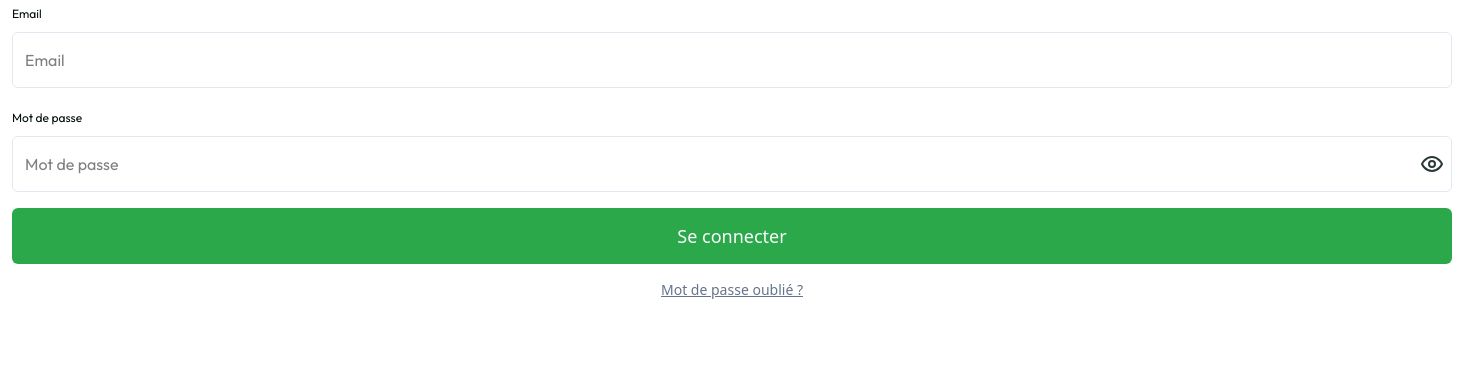
Scenario: LoginForm › shows validation messages when fields are empty
// Click the submit button
What coordinates should you click on to do the following:
click the button "Se connecter"
I would click on:
 (732, 236)
Its box is [12,208,1452,264].
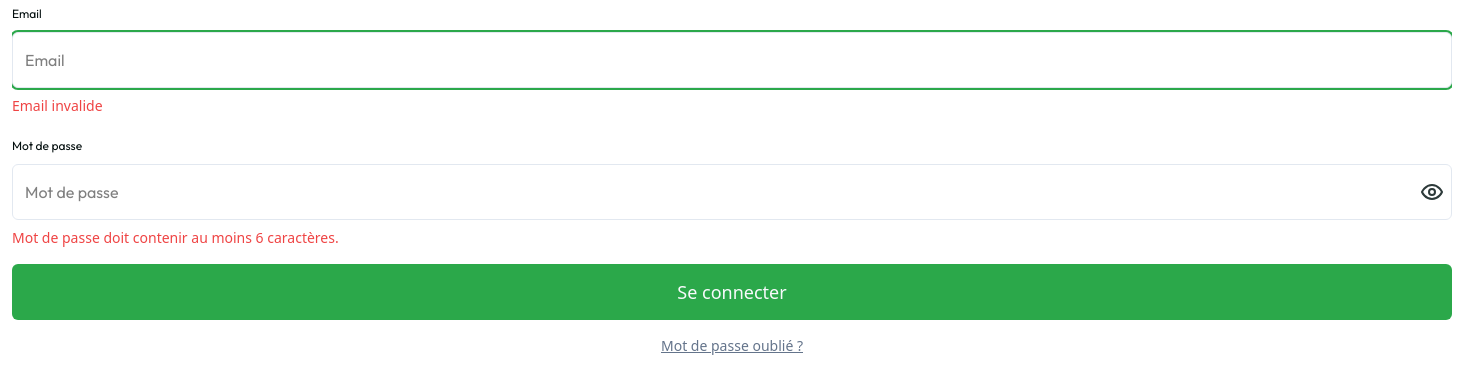
Result: the text "Email invalide" is shown at [12,96,103,115]
Result: the text "Mot de passe doit contenir au moins 6 caractères." is shown at [12,228,339,247]
